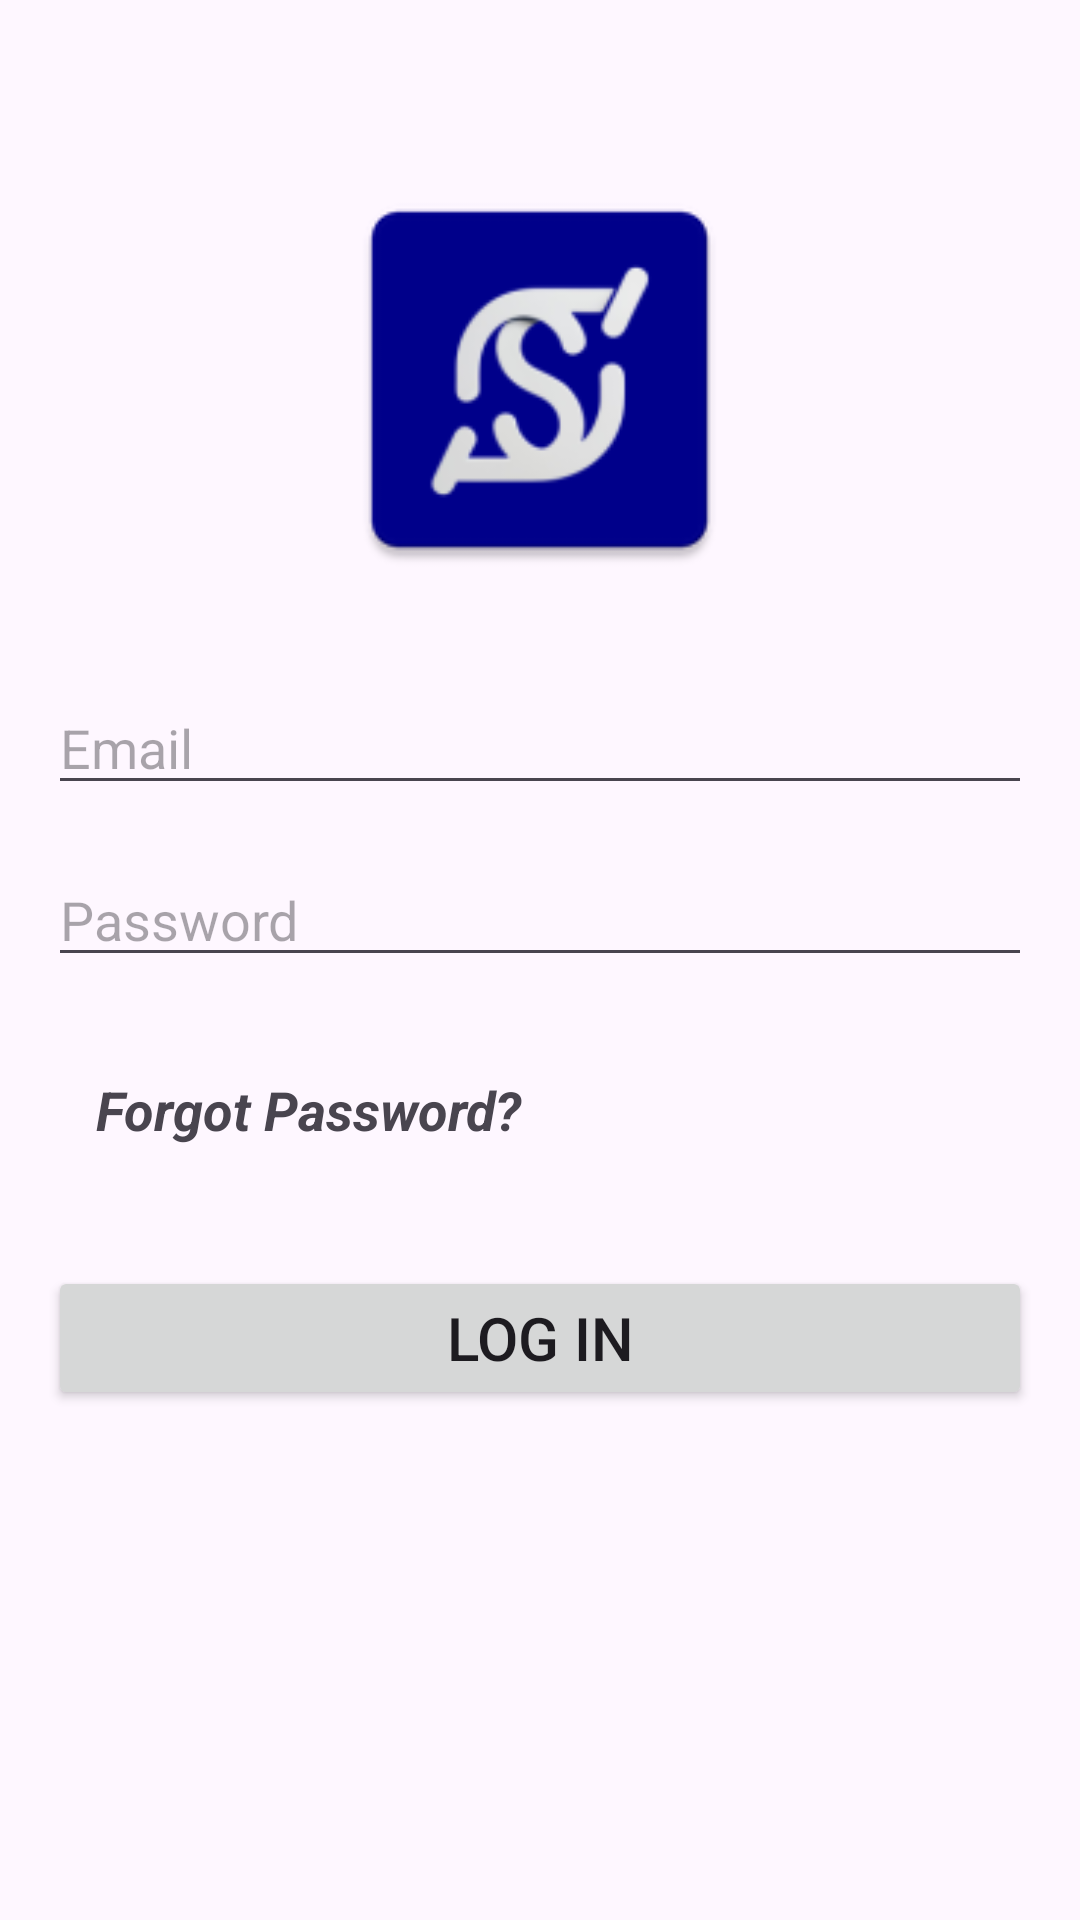

Locate icon controls on the screen. Image size 1080*1920, boxes as [left=x1, top=y1, right=x2, bottom=y2].
app: [left=369, top=210, right=710, bottom=558]
